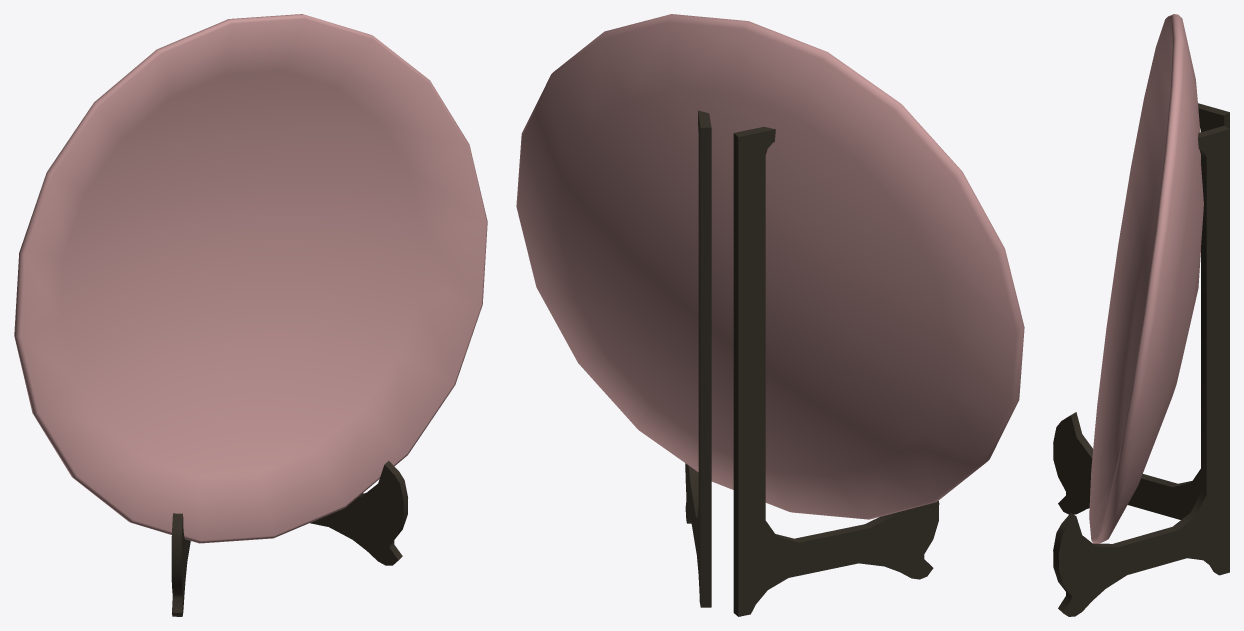
The model's file is JMCHYP001.FBX.
3 renders of one model, left to right at view 1: azimuth 30°, elevation 25°; view 2: azimuth 150°, elevation 25°; view 3: azimuth 270°, elevation 25°, orthographic. The views are drawn at different scales.
Parts seen in each view (by area): view 1: JMCHYP001; view 2: JMCHYP001; view 3: JMCHYP001.
Boxes of the visible parts, <box> form: JMCHYP001: <box>14,14,487,616</box>; JMCHYP001: <box>516,14,1024,616</box>; JMCHYP001: <box>1053,14,1229,616</box>.
Size of the model in its own units: 30 by 9.82 by 32.31.
